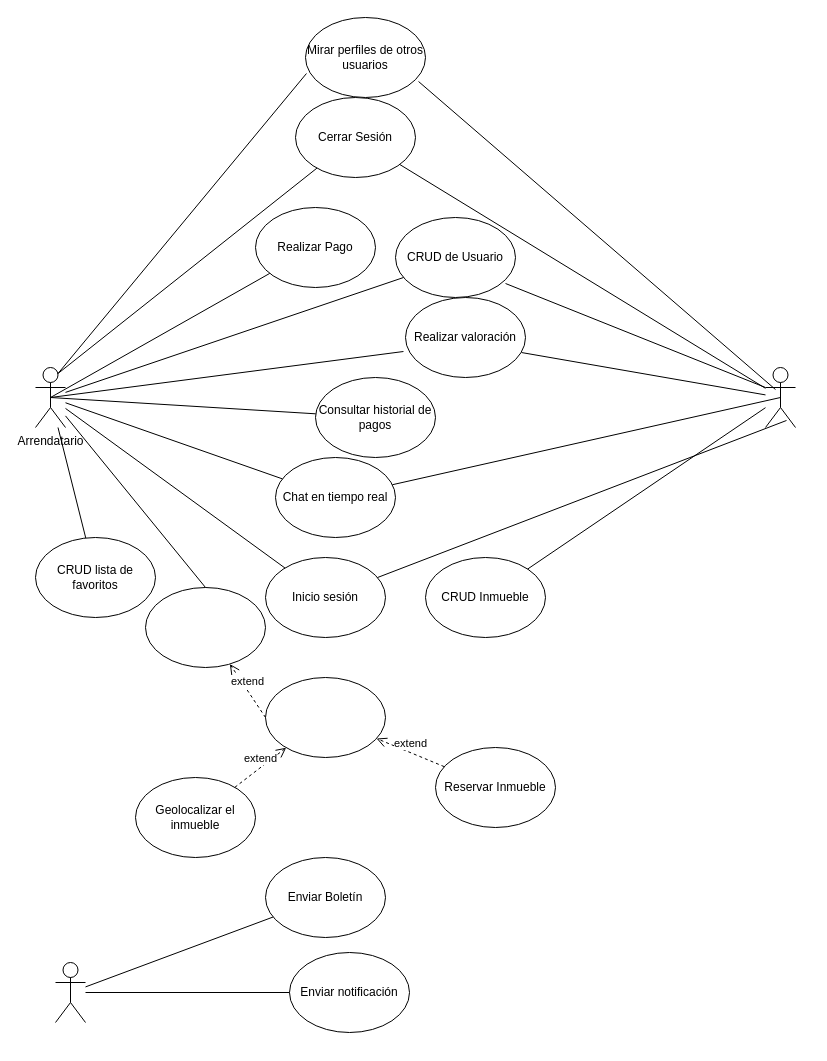
Some shapes in this 827 by 1061 pixel diagram are drawn without their labels. The shapes that lost their labels are listed below. From the top down, each one's box as (x1, y1, x2, y2) in pixels, then its label:
(764, 366, 796, 428): Arrendador
(144, 586, 266, 668): Buscar inmueble
(264, 676, 386, 758): Ver información del inmueble
(54, 962, 86, 1022): Sistema
